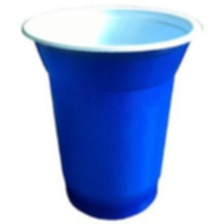glass: (16, 2, 207, 223)
